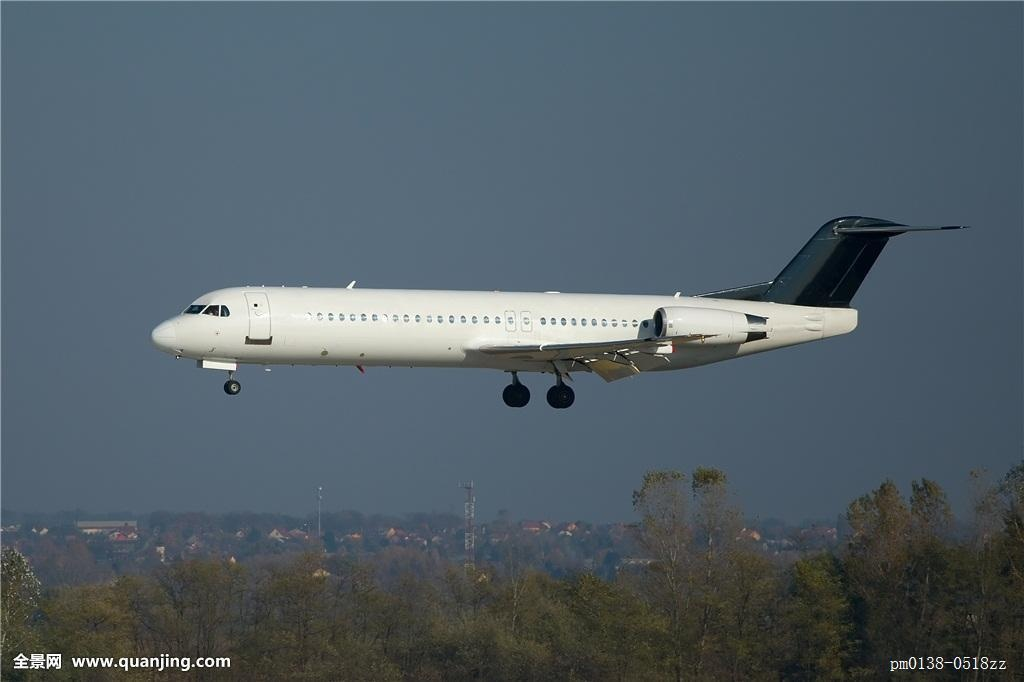airplane: (131, 177, 950, 404)
